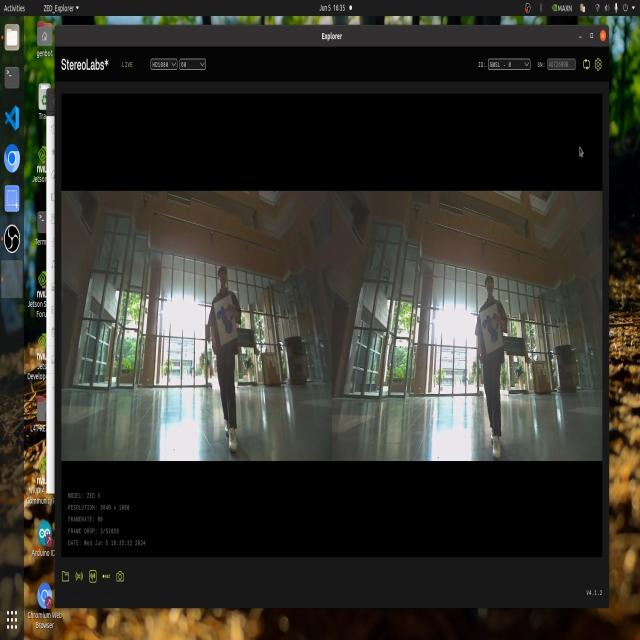blue: (217, 290, 234, 339), (480, 305, 499, 347)
